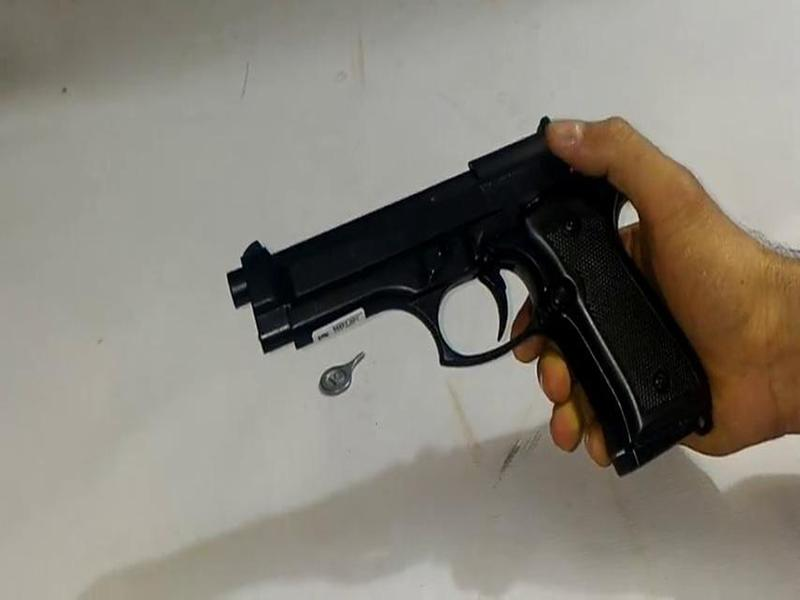Pistola: (212, 101, 724, 498)
